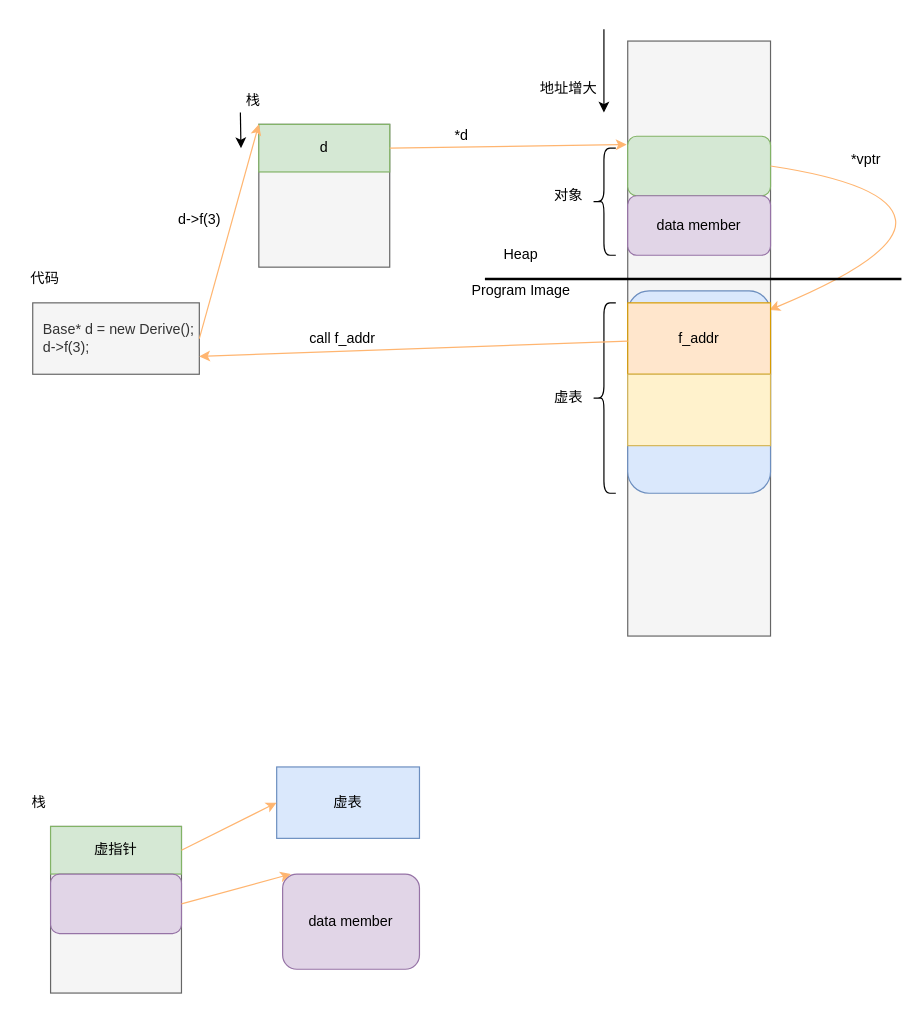
This 923x1014 diagram has some shape labels left out. The shapes that lost their labels are listed below. From the top down, each one's box as (x1, y1, x2, y2) in pixels, then its label:
(627, 135, 771, 196): 虚指针vptr
(627, 373, 771, 446): 其他函数地址
(49, 873, 181, 934): data指针
